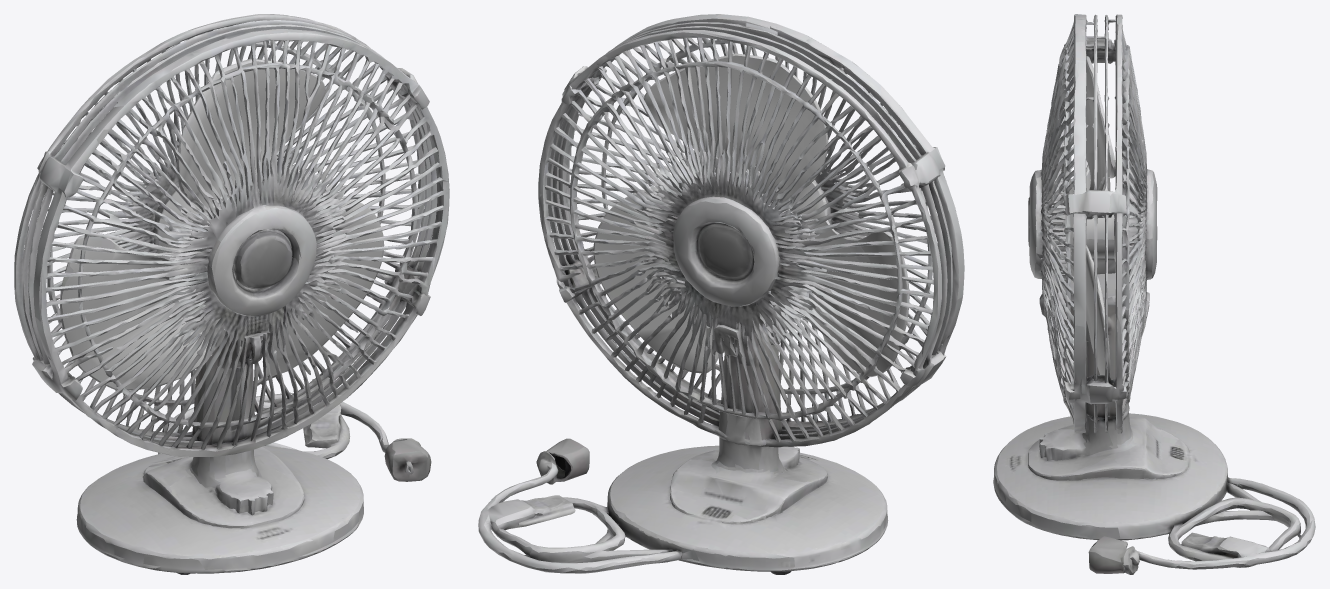
File: parts.glb
The picture shows the model from 3 angles, left to right: view 1: azimuth 30°, elevation 25°; view 2: azimuth 150°, elevation 25°; view 3: azimuth 270°, elevation 25°; orthographic projection. The views are drawn at different scales.
Size of the model in its own units: 0.3867 by 0.45 by 0.2873.
1 material, 1 textured.
